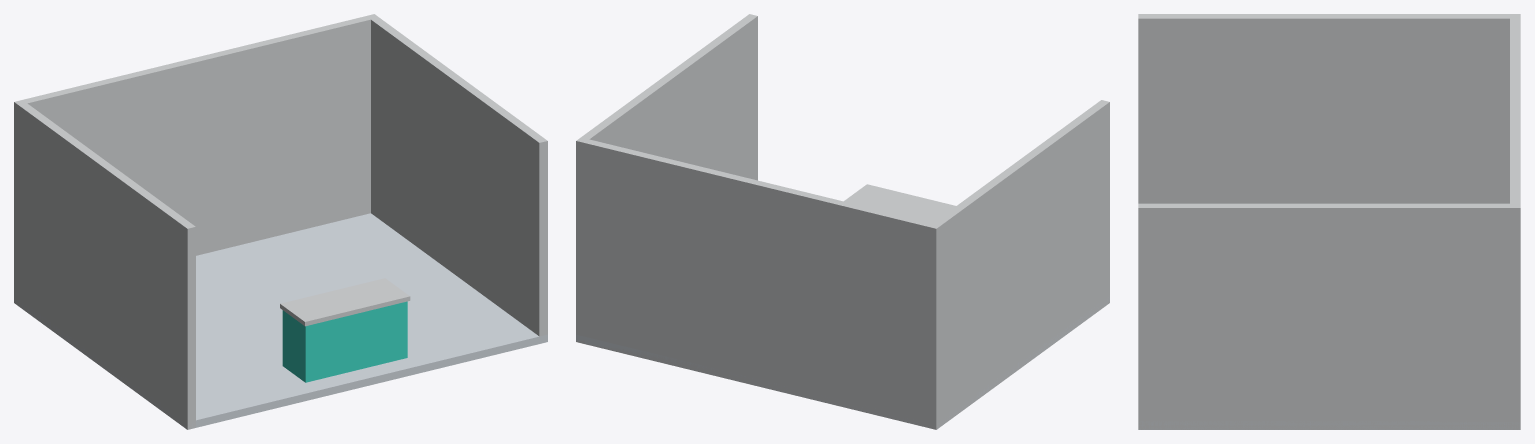
The picture shows the model from 3 angles, left to right: view 1: azimuth 30°, elevation 25°; view 2: azimuth 150°, elevation 25°; view 3: azimuth 270°, elevation 25°; orthographic projection. The views are drawn at different scales.
Parts seen in each view (by area): view 1: Exhibition Booth Concept; view 2: Exhibition Booth Concept; view 3: Exhibition Booth Concept.
Boxes of the visible parts, <box> form: Exhibition Booth Concept: <box>14,14,547,429</box>; Exhibition Booth Concept: <box>576,14,1109,429</box>; Exhibition Booth Concept: <box>1138,14,1520,429</box>.
Bounding box in the file's own units: 6 × 3.2 × 5.
